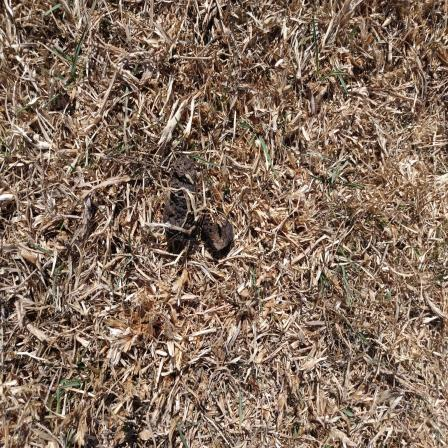dog-poop: (159, 149, 244, 259)
